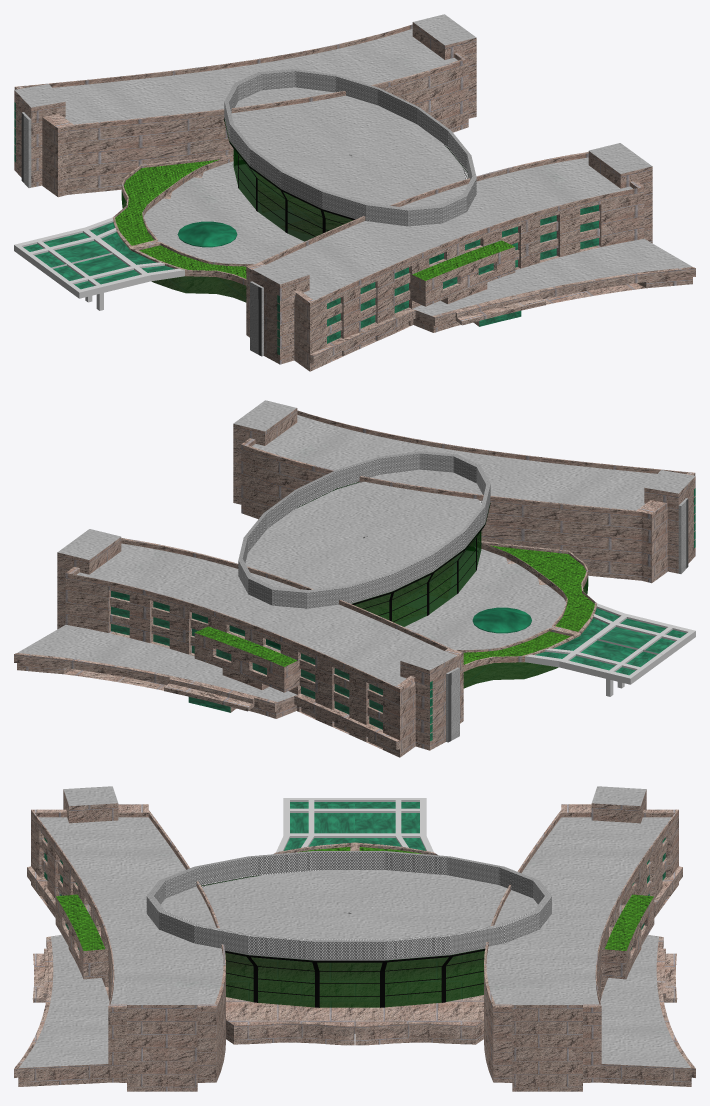
File: hospital.FBX
The picture shows the model from 3 angles, top to bottom: view 1: azimuth 30°, elevation 25°; view 2: azimuth 150°, elevation 25°; view 3: azimuth 270°, elevation 25°; orthographic projection. The views are drawn at different scales.
Parts seen in each view (by area): view 1: Object003, hospital, fance, Object001, Object002, mainbuilding, Object005, glasstop, mainbuilding001; view 2: Object003, hospital, fance, Object001, mainbuilding, Object002, Object005, glasstop, mainbuilding001; view 3: Object003, hospital, fance, mainbuilding, Object001, Object005, Object002, mainbuilding001.
Boxes of the visible parts, left/top/right/bottom form: Object003: left=14, top=14, right=692, bottom=356; hospital: left=14, top=22, right=695, bottom=371; fance: left=224, top=69, right=476, bottom=226; Object001: left=14, top=102, right=598, bottom=355; Object002: left=115, top=159, right=514, bottom=280; mainbuilding: left=121, top=119, right=466, bottom=302; Object005: left=14, top=217, right=184, bottom=310; glasstop: left=177, top=221, right=237, bottom=247; mainbuilding001: left=224, top=118, right=467, bottom=236; Object003: left=17, top=400, right=695, bottom=742; hospital: left=14, top=408, right=695, bottom=757; fance: left=238, top=451, right=490, bottom=608; Object001: left=111, top=488, right=695, bottom=741; mainbuilding: left=301, top=482, right=588, bottom=688; Object002: left=195, top=545, right=594, bottom=666; Object005: left=525, top=603, right=695, bottom=696; glasstop: left=472, top=607, right=531, bottom=633; mainbuilding001: left=298, top=482, right=490, bottom=622; Object003: left=19, top=786, right=690, bottom=1068; hospital: left=14, top=789, right=695, bottom=1091; fance: left=146, top=851, right=551, bottom=960; mainbuilding: left=201, top=875, right=484, bottom=1007; Object001: left=44, top=802, right=665, bottom=950; Object005: left=276, top=798, right=433, bottom=852; Object002: left=56, top=847, right=653, bottom=950; mainbuilding001: left=201, top=875, right=484, bottom=1007.
Size of the model in its own units: 2568 by 396 by 2757.
9 materials, 7 textured.
